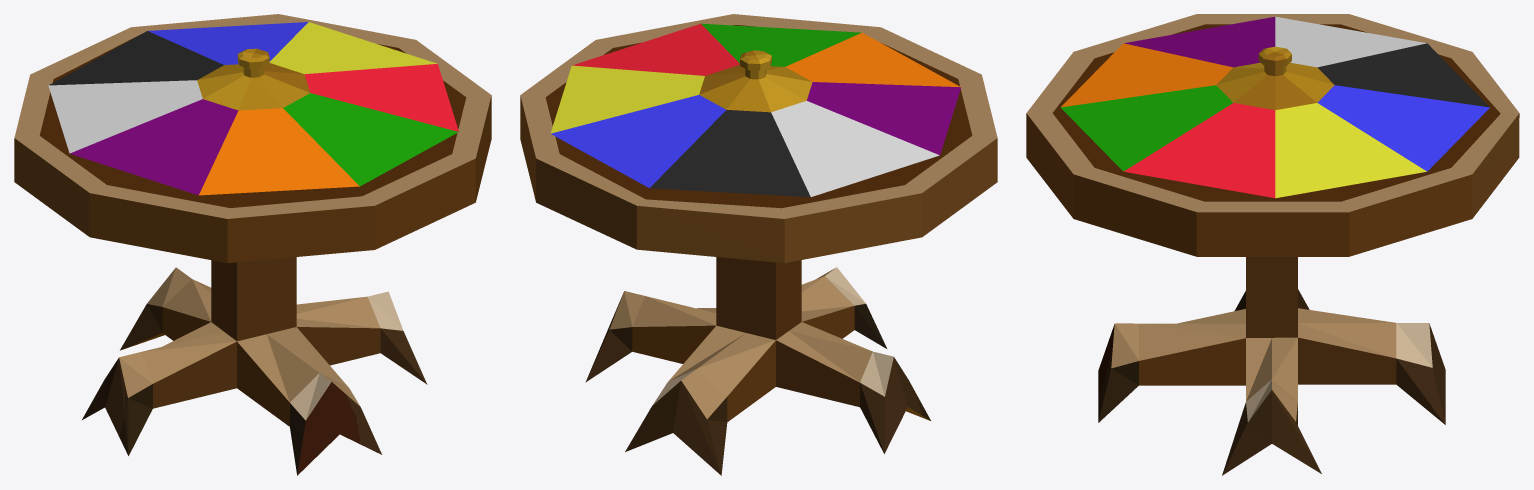
Rendered from roulettetable_725x0.gltf.
3 renders of one model, left to right at view 1: azimuth 30°, elevation 25°; view 2: azimuth 150°, elevation 25°; view 3: azimuth 270°, elevation 25°, orthographic.
Visible parts, largest first — view 1: RouletteTable_725x0; view 2: RouletteTable_725x0; view 3: RouletteTable_725x0.
Boxes of the visible parts, left/top/right/bottom form: RouletteTable_725x0: left=14, top=14, right=491, bottom=475; RouletteTable_725x0: left=520, top=14, right=997, bottom=475; RouletteTable_725x0: left=1026, top=14, right=1519, bottom=475.
Bounding box in the file's own units: 2.7 × 2.23 × 2.84.
Materials: 1 (1 with a texture image).
